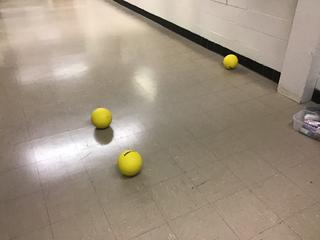power_cell: (112, 146, 146, 179), (87, 106, 117, 134), (221, 52, 240, 70)
